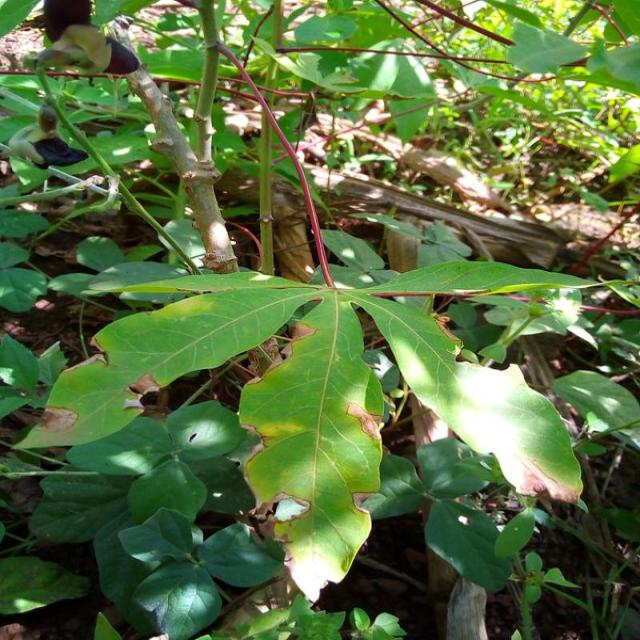cassava leaf: (344, 289, 584, 508), (237, 288, 385, 603)
